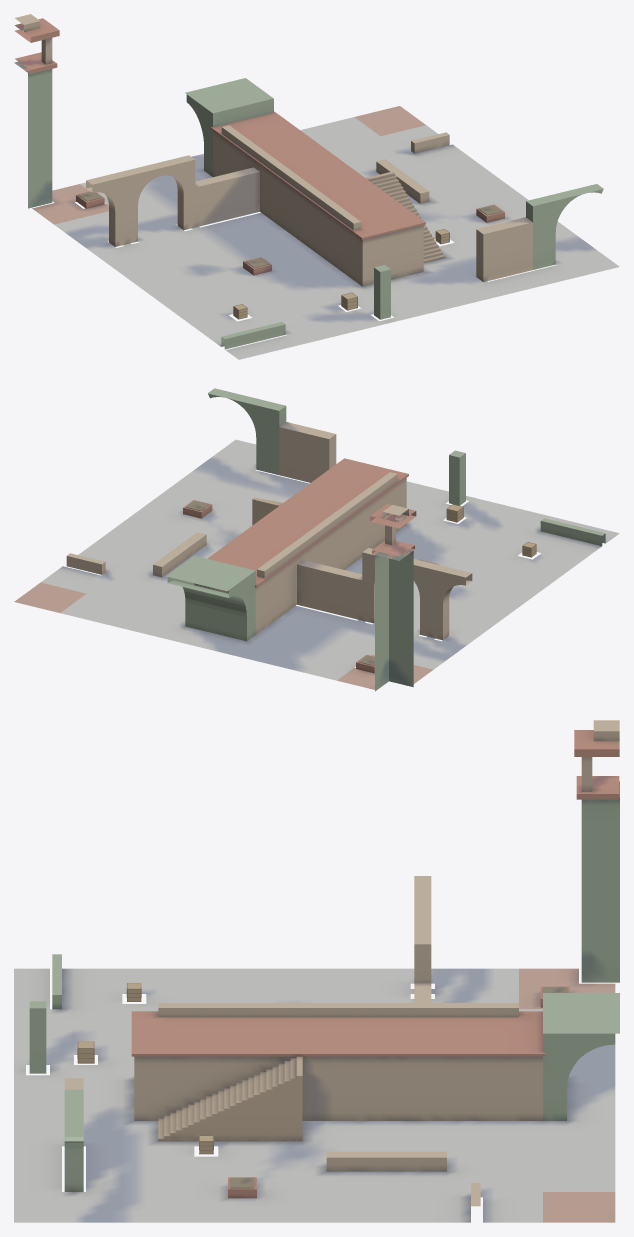
3 views of the same model, one above another, from view 1: azimuth 30°, elevation 25°; view 2: azimuth 150°, elevation 25°; view 3: azimuth 270°, elevation 25° (orthographic). The views are drawn at different scales.
Parts seen in each view (by area): view 1: t; view 2: t; view 3: t.
Boxes of the visible parts, x1,y1,x2,y2 form: t: (14,14,619,359); t: (14,388,619,691); t: (14,720,619,1222).
Bounding box in the file's own units: 50.73 × 22.6 × 50.4.
